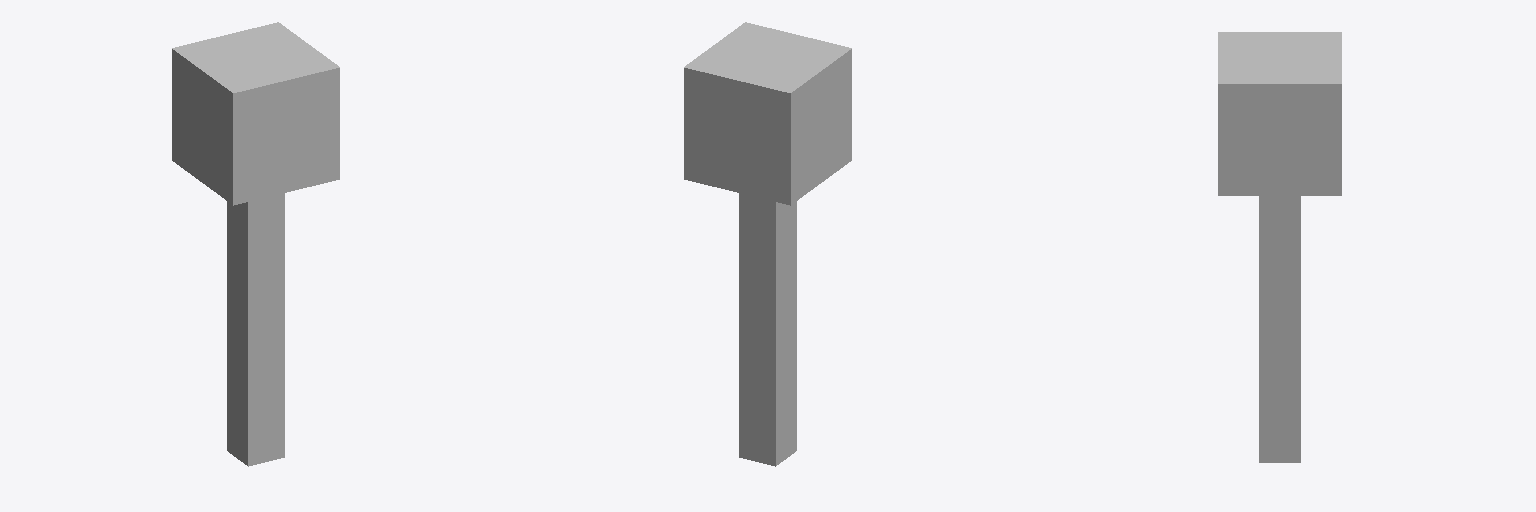
File: scale.obj
The picture shows the model from 3 angles: view 1: azimuth 30°, elevation 25°; view 2: azimuth 150°, elevation 25°; view 3: azimuth 270°, elevation 25°; orthographic projection.
Parts seen in each view (by area): view 1: Cube; view 2: Cube; view 3: Cube.
Boxes of the visible parts, <box> form: Cube: <box>172,22,339,466</box>; Cube: <box>684,22,851,466</box>; Cube: <box>1218,32,1341,462</box>.
Bounding box in the file's own units: 2 × 7.07 × 2.